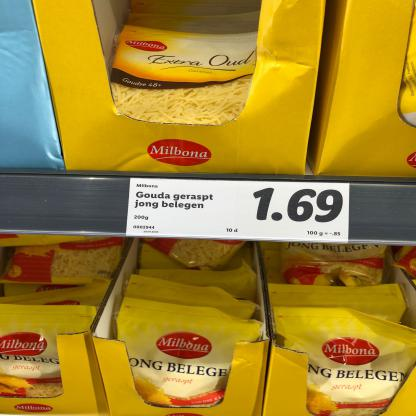prtg: (126, 178, 351, 244)
